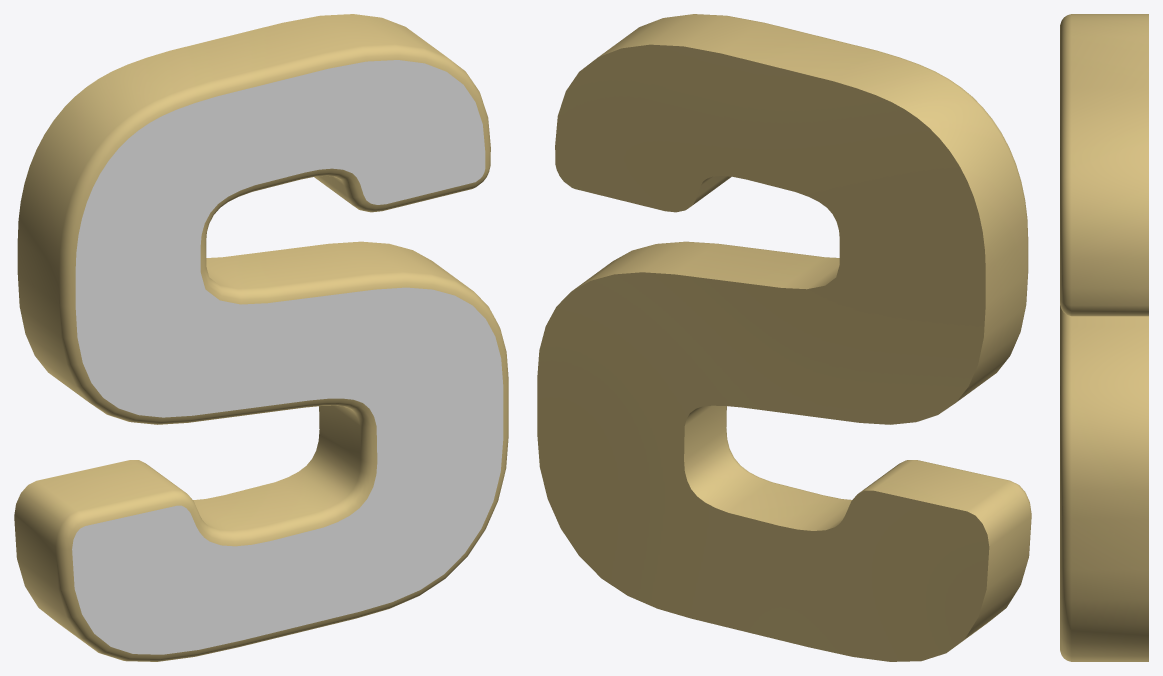
File: LettersLightUp02_S.FBX
3 views of the same model, side by side, from view 1: azimuth 30°, elevation 25°; view 2: azimuth 150°, elevation 25°; view 3: azimuth 270°, elevation 25° (orthographic). The views are drawn at different scales.
Parts seen in each view (by area): view 1: LettersLightUp02_S; view 2: LettersLightUp02_S; view 3: LettersLightUp02_S.
Boxes of the visible parts, x1,y1,x2,y2 form: LettersLightUp02_S: (14, 14, 508, 661); LettersLightUp02_S: (537, 14, 1031, 661); LettersLightUp02_S: (1060, 14, 1148, 661).
Size of what is drawn, in the model's own units: 0.5025 by 0.608 by 0.0912.
